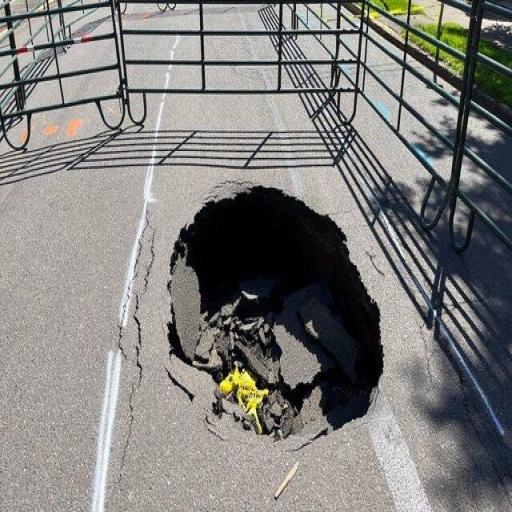Concentric_Crack: (166, 184, 383, 450)
